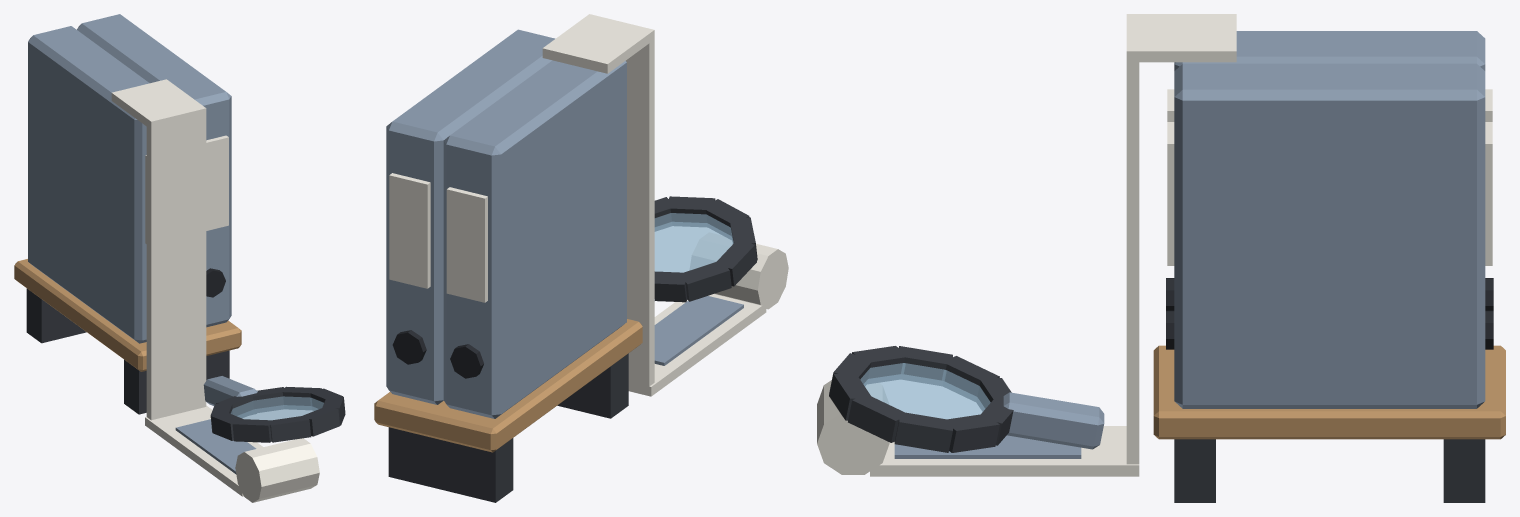
Rendered from delegation_m2_2.glb.
The picture shows the model from 3 angles, left to right: view 1: azimuth 30°, elevation 25°; view 2: azimuth 150°, elevation 25°; view 3: azimuth 270°, elevation 25°; orthographic projection. The views are drawn at different scales.
Parts seen in each view (by area): view 1: delegation_m2_2_mesh; view 2: delegation_m2_2_mesh; view 3: delegation_m2_2_mesh.
Part boxes in pixels (box(x1,y1,x2,y2)): delegation_m2_2_mesh: box(14, 14, 345, 502); delegation_m2_2_mesh: box(374, 14, 788, 502); delegation_m2_2_mesh: box(817, 14, 1505, 502).
Bounding box in the file's own units: 0.174 × 0.452 × 0.665.
